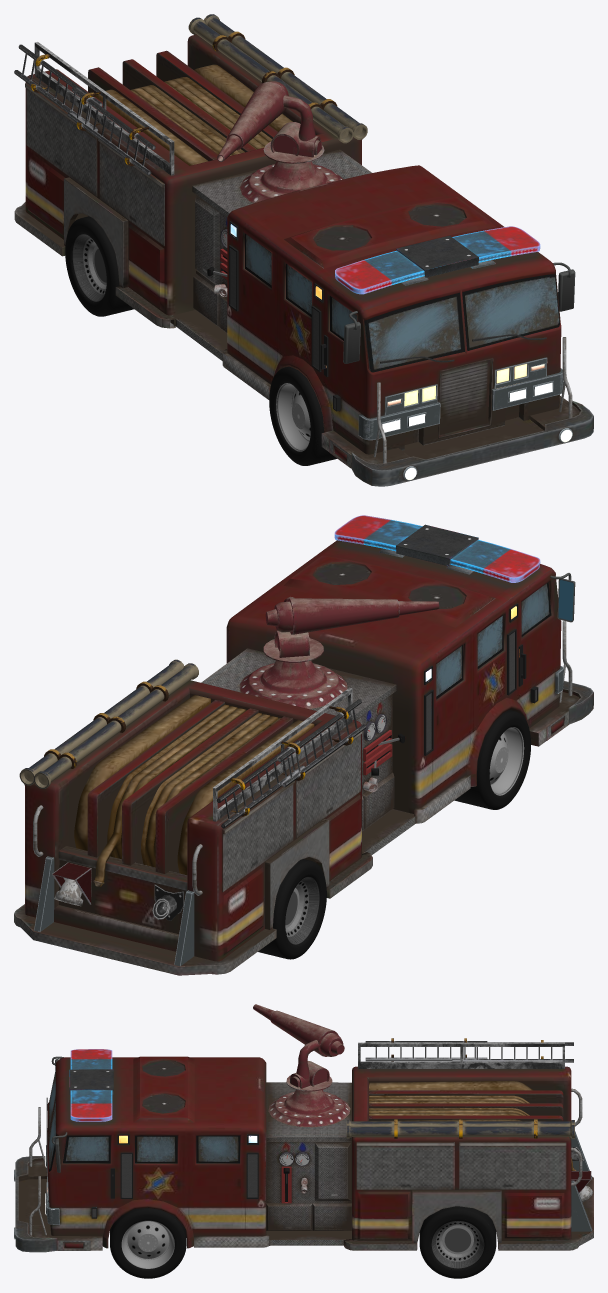
Rendered from fire-us2.glb.
3 views of the same model, one above another, from view 1: azimuth 30°, elevation 25°; view 2: azimuth 150°, elevation 25°; view 3: azimuth 270°, elevation 25° (orthographic). The views are drawn at different scales.
Visible parts, largest first — view 1: Cube, Cube.006, Cube.005, Cube.002, Cylinder.010, Cylinder.005, Cylinder.017, Cylinder.018, siren_L, Cube.014, siren_R, Cylinder.004 (+7 smaller); view 2: Cube.006, Cube, Cylinder.005, Cylinder.010, Cube.002, Cylinder.017, Cylinder.018, siren_L, siren_R, Cube.005, Cylinder.004, Cube.008 (+9 smaller); view 3: Cube, Cube.006, Cube.002, Cylinder.010, Cylinder.018, Cylinder.005, Cube.005, Cylinder.017, Cube.008, Cylinder.002, siren_R, Cube.010 (+7 smaller).
Part boxes in pixels (left/top/right/bottom): Cube: left=222, top=165, right=593, bottom=486; Cube.006: left=14, top=34, right=362, bottom=328; Cube.005: left=245, top=233, right=559, bottom=372; Cube.002: left=170, top=149, right=371, bottom=360; Cylinder.010: left=217, top=81, right=343, bottom=202; Cylinder.005: left=95, top=64, right=292, bottom=165; Cylinder.017: left=269, top=366, right=337, bottom=465; Cylinder.018: left=65, top=216, right=133, bottom=316; siren_L: left=335, top=242, right=452, bottom=294; Cube.014: left=358, top=368, right=563, bottom=440; siren_R: left=423, top=226, right=540, bottom=271; Cylinder.004: left=14, top=44, right=155, bottom=175; Cube.006: left=14, top=680, right=372, bottom=975; Cube: left=226, top=540, right=593, bottom=823; Cylinder.005: left=74, top=695, right=314, bottom=886; Cylinder.010: left=240, top=596, right=439, bottom=708; Cube.002: left=201, top=648, right=415, bottom=855; Cylinder.017: left=454, top=710, right=531, bottom=809; Cylinder.018: left=258, top=859, right=326, bottom=959; siren_L: left=423, top=531, right=540, bottom=582; siren_R: left=334, top=515, right=451, bottom=559; Cube.005: left=436, top=582, right=551, bottom=699; Cylinder.004: left=216, top=699, right=366, bottom=828; Cube.008: left=213, top=687, right=352, bottom=821; Cube: left=15, top=1056, right=269, bottom=1252; Cube.006: left=344, top=1066, right=593, bottom=1250; Cube.002: left=266, top=1082, right=351, bottom=1245; Cylinder.010: left=253, top=1004, right=350, bottom=1127; Cylinder.018: left=419, top=1206, right=496, bottom=1278; Cylinder.005: left=369, top=1081, right=576, bottom=1170; Cube.005: left=48, top=1069, right=239, bottom=1171; Cylinder.017: left=110, top=1208, right=186, bottom=1278; Cube.008: left=358, top=1042, right=564, bottom=1068; Cylinder.002: left=346, top=1125, right=574, bottom=1138; siren_R: left=69, top=1079, right=113, bottom=1121; Cube.010: left=91, top=1134, right=258, bottom=1218.
Size of the model in its own units: 0.347 by 0.3906 by 1.
Materials: 29 (29 with a texture image).
